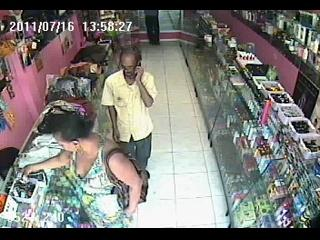Normal: (22, 102, 150, 227), (100, 45, 158, 170), (144, 10, 160, 46)
